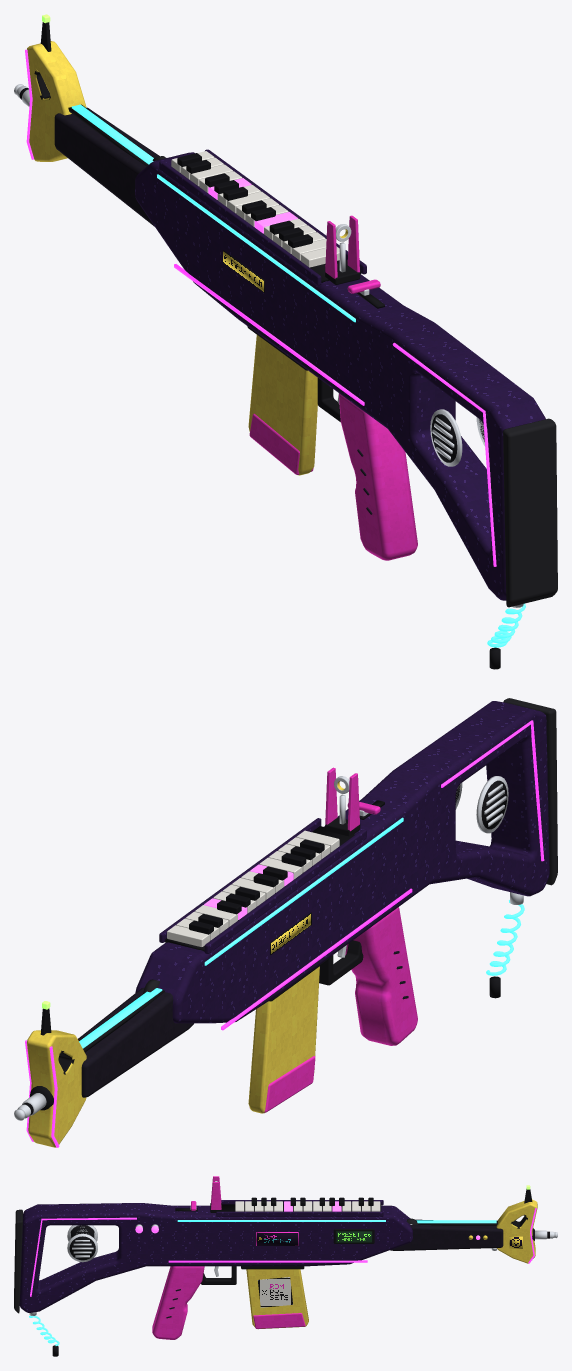
The model's file is w_ar_keytar.glb.
The picture shows the model from 3 angles, top to bottom: view 1: azimuth 30°, elevation 25°; view 2: azimuth 150°, elevation 25°; view 3: azimuth 270°, elevation 25°; orthographic projection. The views are drawn at different scales.
Visible parts, largest first — view 1: keytar_wzA, keytar_wzB, keytar_wzN, mag_wzB; view 2: keytar_wzA, keytar_wzB, keytar_wzN, mag_wzB; view 3: keytar_wzA, keytar_wzB, keytar_wzN, mag_wzB, mag_wzN.
Boxes of the visible parts, x1=… form: keytar_wzA: x1=135, y1=149, x2=557, y2=607; keytar_wzB: x1=14, y1=22, x2=523, y2=669; keytar_wzN: x1=19, y1=14, x2=525, y2=647; mag_wzB: x1=248, y1=335, x2=317, y2=475; keytar_wzA: x1=135, y1=698, x2=557, y2=1045; keytar_wzB: x1=14, y1=776, x2=523, y2=1147; keytar_wzN: x1=22, y1=720, x2=544, y2=1147; mag_wzB: x1=248, y1=966, x2=319, y2=1113; keytar_wzA: x1=14, y1=1176, x2=417, y2=1339; keytar_wzB: x1=29, y1=1181, x2=557, y2=1356; keytar_wzN: x1=29, y1=1185, x2=549, y2=1345; mag_wzB: x1=246, y1=1269, x2=308, y2=1329; mag_wzN: x1=257, y1=1277, x2=293, y2=1307.
Size of the model in its own units: 0.08 by 0.43 by 1.2.
18 materials, 9 textured.
